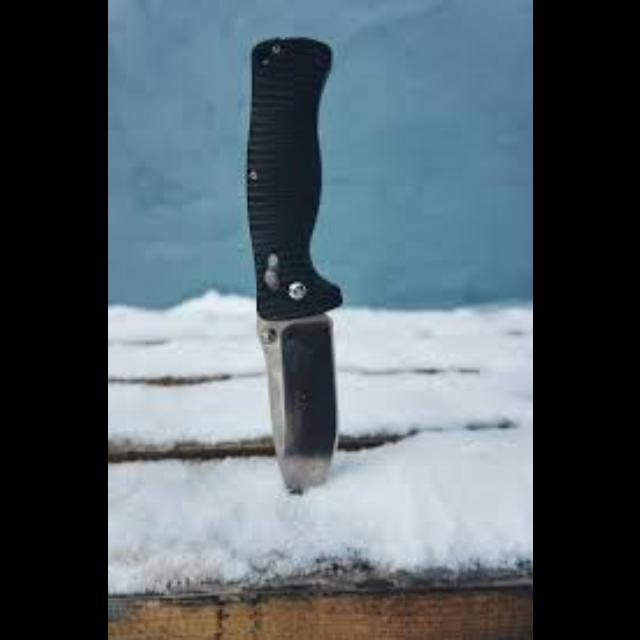knife: (245, 35, 342, 493)
